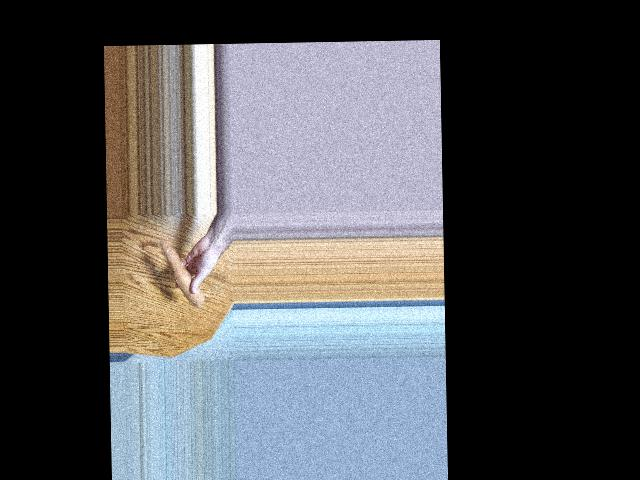sweet_potato: (164, 240, 202, 315)
